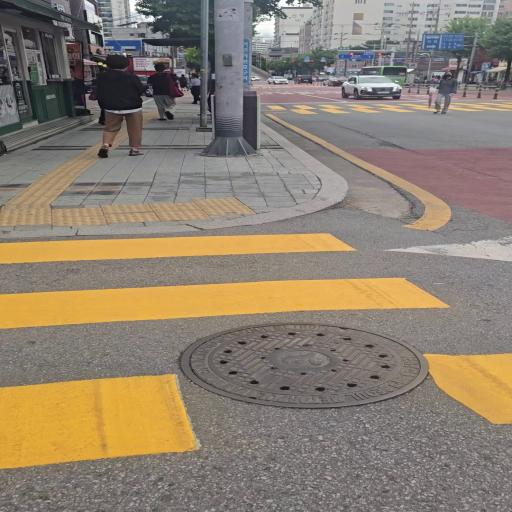yellow-crosswalk: (0, 223, 512, 512), (256, 94, 512, 120)
